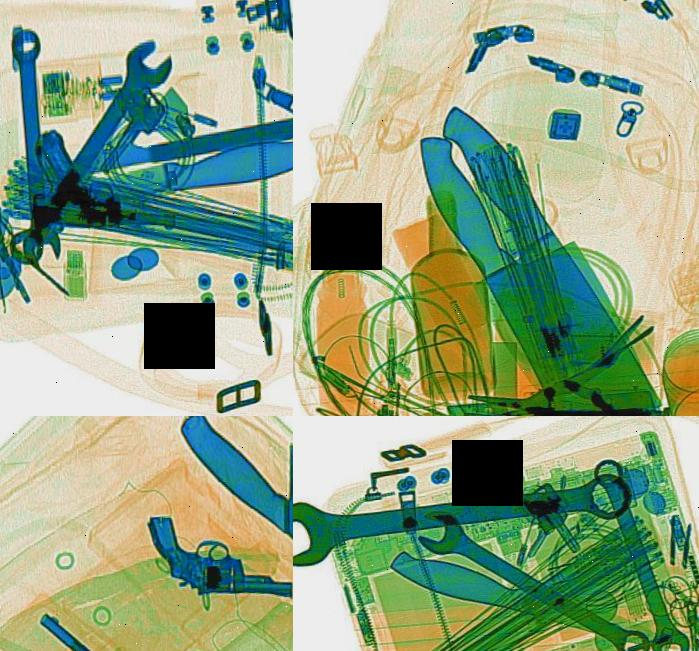Gun: (27, 115, 181, 238), (134, 502, 293, 606), (0, 598, 212, 651)
Knife: (383, 73, 663, 416), (399, 76, 670, 416), (375, 518, 677, 651), (166, 416, 293, 651), (42, 129, 293, 218), (6, 110, 293, 185)
Wrench: (0, 27, 193, 278), (401, 489, 667, 651), (293, 453, 636, 568), (586, 449, 692, 651), (2, 26, 62, 267)
